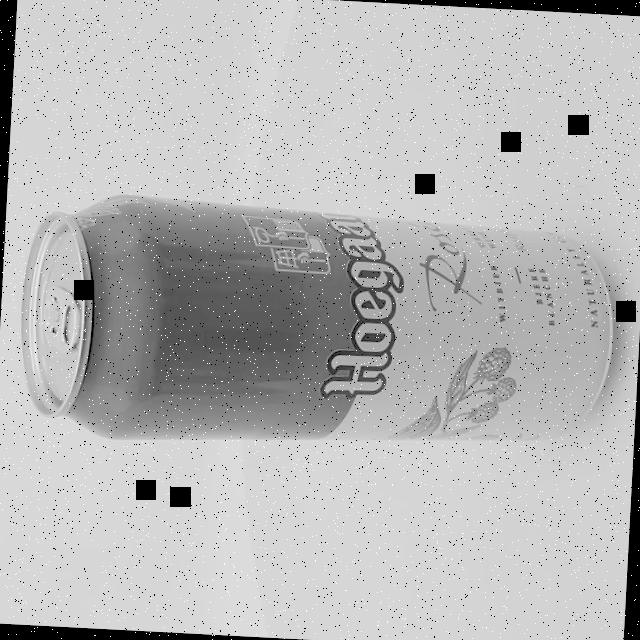can: (12, 189, 618, 466)
